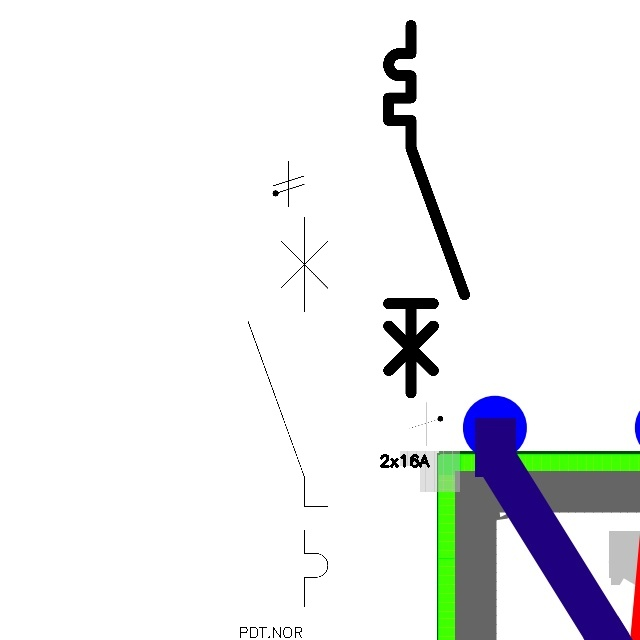interruptor_termomagnetico: (238, 207, 338, 617), (379, 16, 473, 403)
